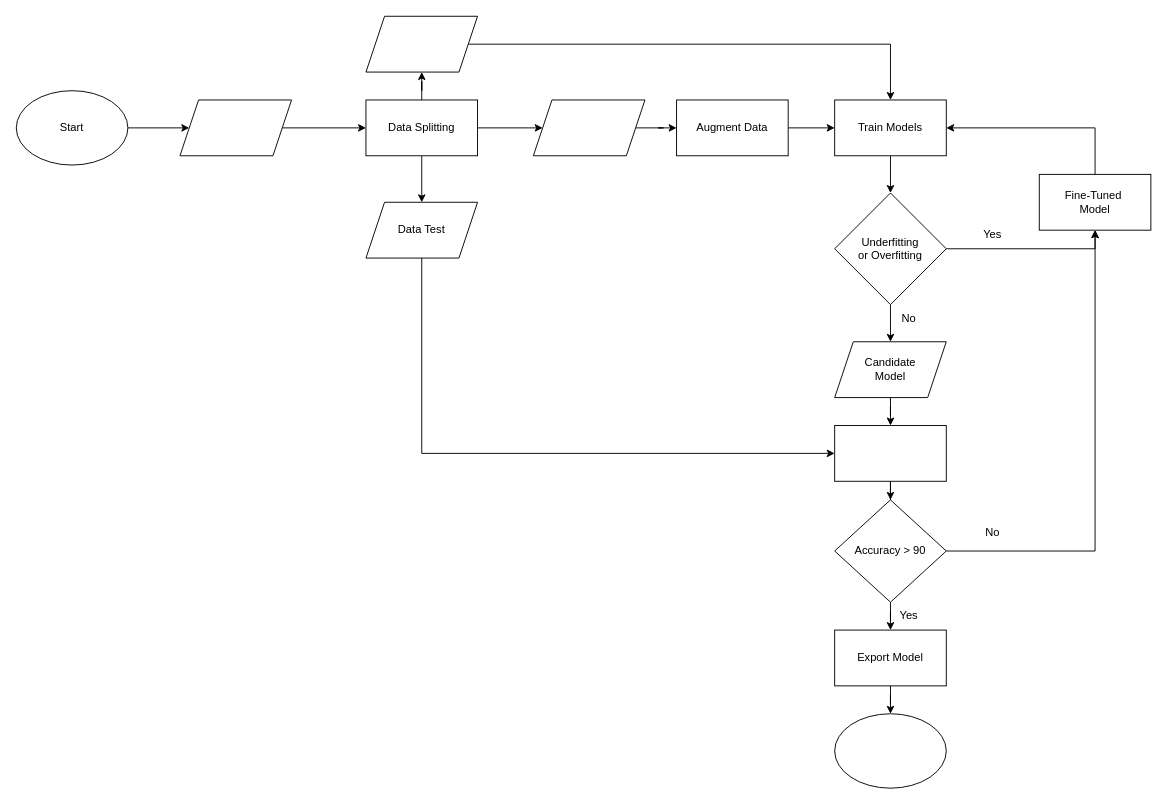
Some shapes in this 1167 by 804 pixel diagram are drawn without their labels. Each missing label, with the centre of its shape:
Data Collecting: the point at 235,127
Data Training: the point at 588,127
Data Validation: the point at 421,43
End: the point at 890,750
Evaluate Model: the point at 890,453
